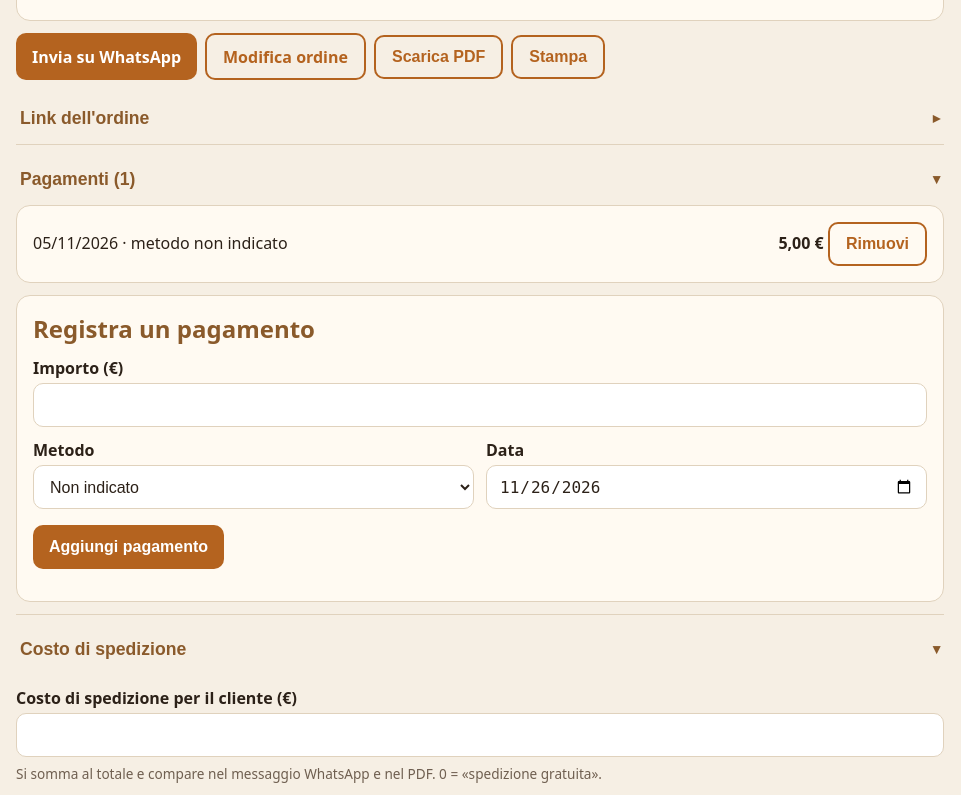
Test: un pagamento superiore a quello che resta da pagare non parte e spiega il motivo
(page scrolled)
In the field labelled "Importo (€)": (480, 405) [33,383,927,427], type "12,51"
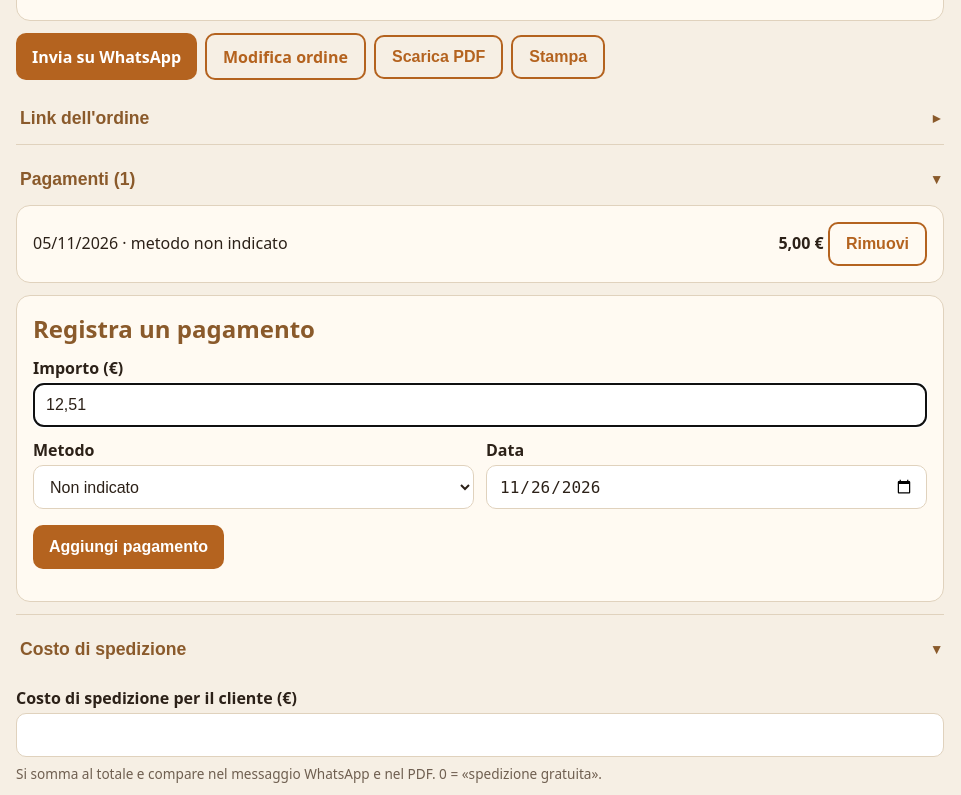
Click the button "Aggiungi pagamento": (129, 547) [33,525,224,569]
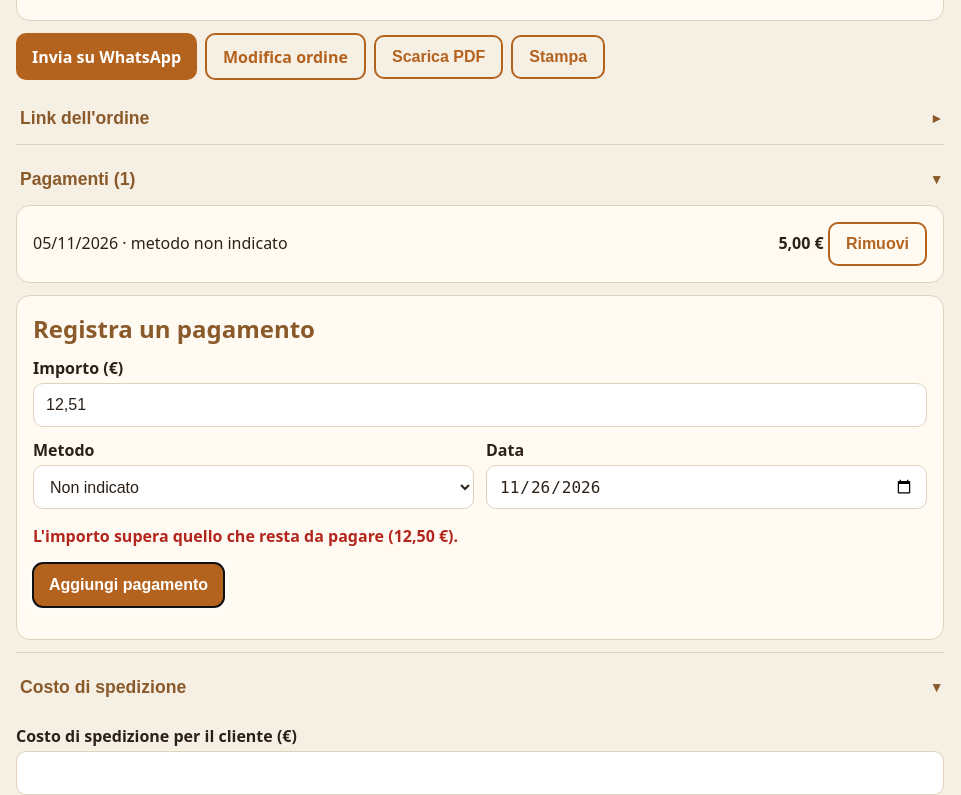
Result: the text "L'importo supera quello che resta da pagare (12,50 €)." is shown at [33,525,458,547]
